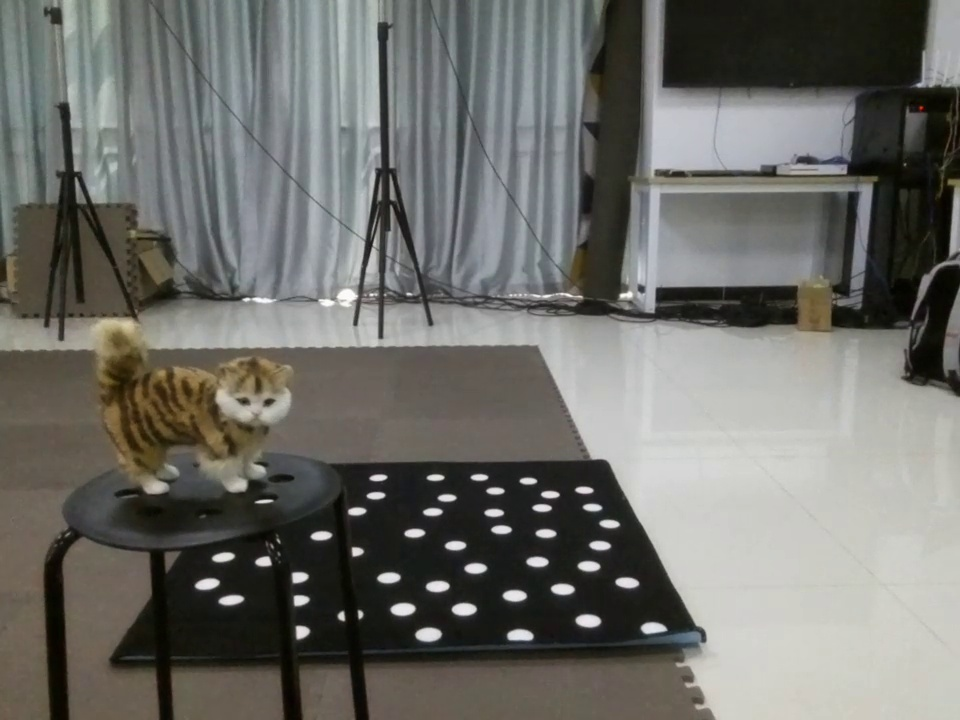cat: (60, 316, 332, 500)
